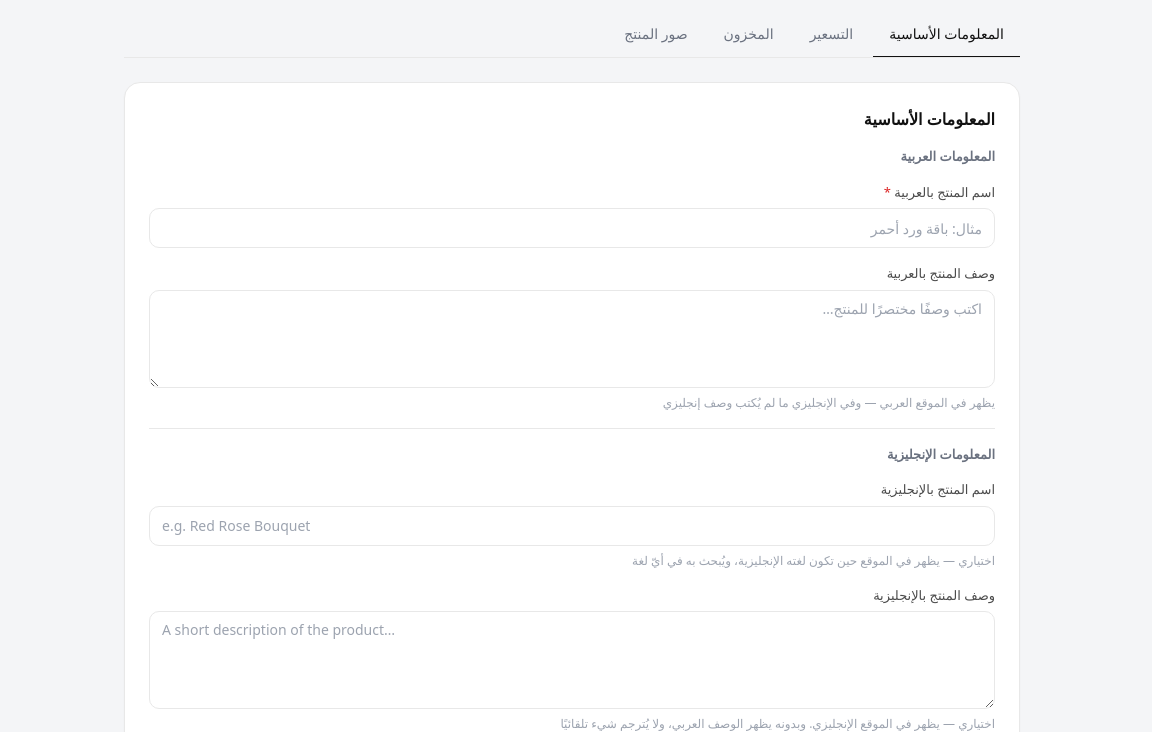
Test: ربطُ المنتج بالمخزون › مضاءٌ افتراضًا والكميّةُ ظاهرة
This screenshot has width=1152, height=732.
Click the tab "المخزون" at (749, 35), box 708,12 -> 790,58
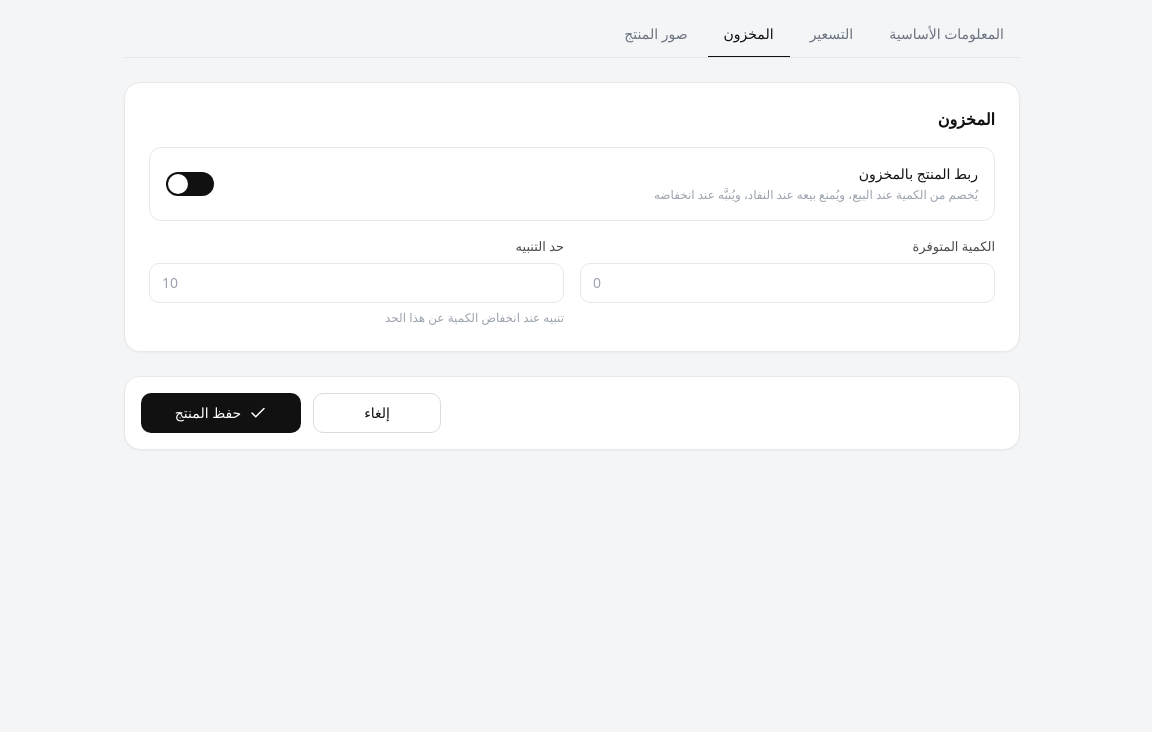
Check: the text "الكمية المتوفرة" is shown, box 912,237 -> 995,255
Check: the text "حد التنبيه" is shown, box 516,237 -> 564,255
